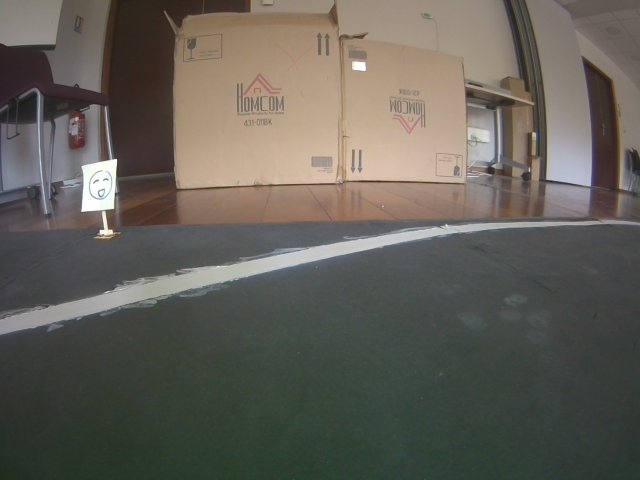Smiley: (79, 158, 120, 215)
